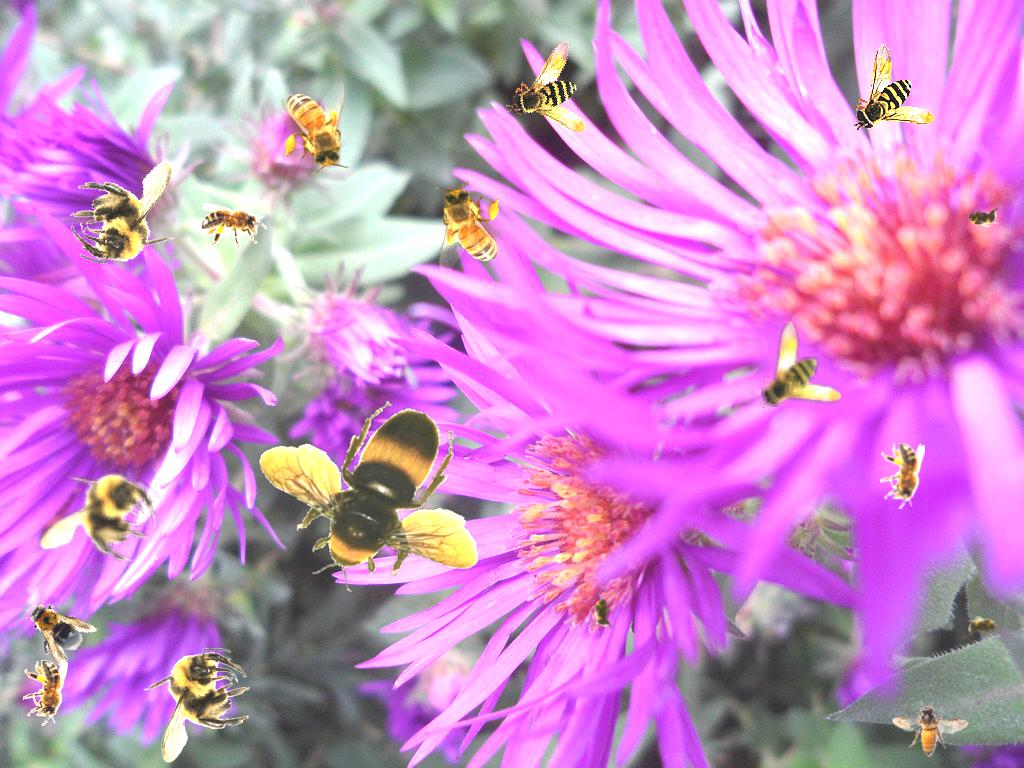Bee: (258, 401, 478, 592), (20, 442, 177, 599), (60, 141, 193, 280), (504, 28, 614, 142), (143, 648, 250, 763), (12, 587, 98, 671), (759, 321, 841, 409), (853, 43, 935, 131), (884, 690, 970, 767), (281, 81, 349, 174), (435, 181, 503, 274), (23, 660, 68, 726), (201, 203, 267, 248), (880, 443, 925, 509), (963, 616, 1003, 638), (962, 206, 1002, 228), (592, 592, 614, 632)
